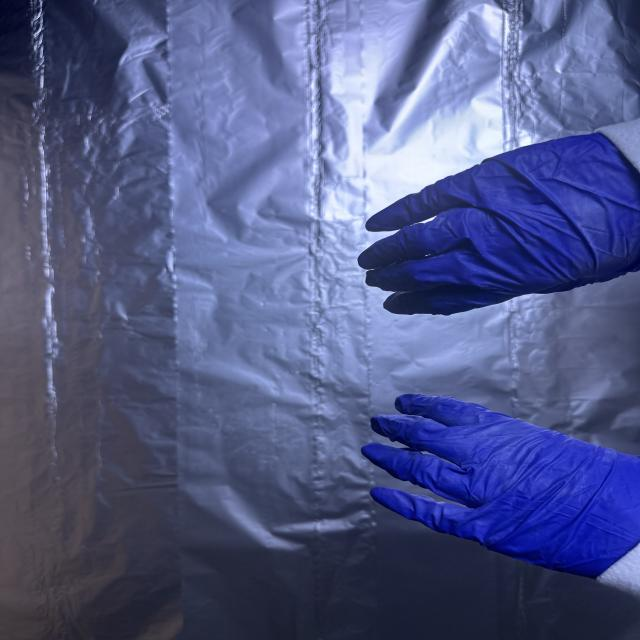gloves_contaminated: (358, 133, 640, 314), (363, 394, 640, 578)
